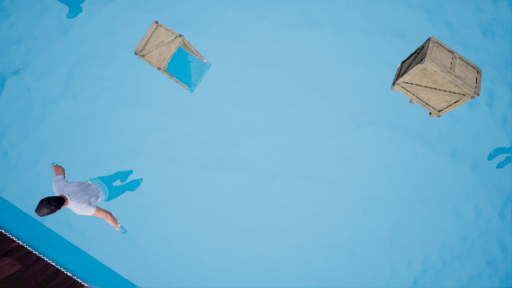person: (35, 159, 163, 233)
